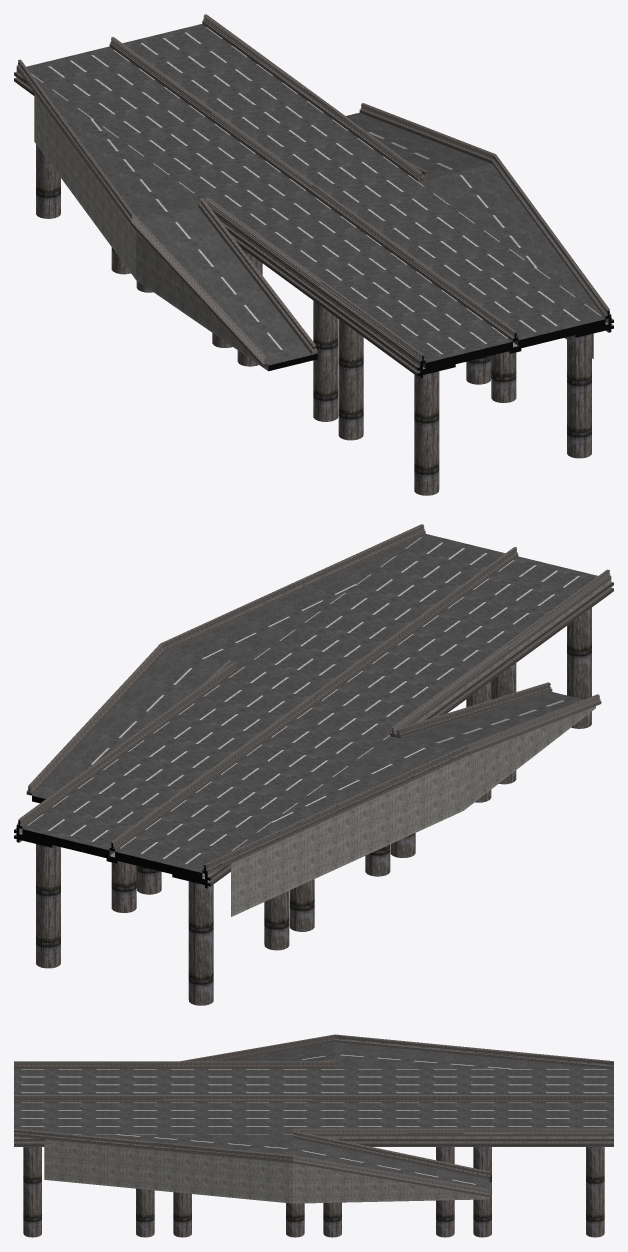
The model's file is HighwayJunct2_off_1.fbx.
3 views of the same model, one above another, from view 1: azimuth 30°, elevation 25°; view 2: azimuth 150°, elevation 25°; view 3: azimuth 270°, elevation 25° (orthographic). The views are drawn at different scales.
Visible parts, largest first — view 1: materialE150, materialD150, materialA150, materialB150, materialC150; view 2: materialE150, materialD150, materialA150, materialB150, materialC150; view 3: materialE150, materialD150, materialB150, materialA150.
Boxes of the visible parts, left/top/right/bottom form: materialE150: left=26, top=24, right=605, bottom=368; materialD150: left=14, top=14, right=613, bottom=495; materialA150: left=33, top=76, right=605, bottom=365; materialB150: left=16, top=69, right=608, bottom=372; materialC150: left=18, top=16, right=613, bottom=378; materialE150: left=22, top=534, right=597, bottom=872; materialD150: left=14, top=524, right=613, bottom=1005; materialA150: left=32, top=534, right=583, bottom=851; materialB150: left=19, top=579, right=611, bottom=916; materialC150: left=14, top=586, right=508, bottom=888; materialE150: left=14, top=1069, right=613, bottom=1134; materialD150: left=14, top=1034, right=613, bottom=1237; materialB150: left=14, top=1136, right=613, bottom=1203; materialA150: left=76, top=1042, right=611, bottom=1189.
Size of the model in its own units: 99.2 by 41.6 by 205.
